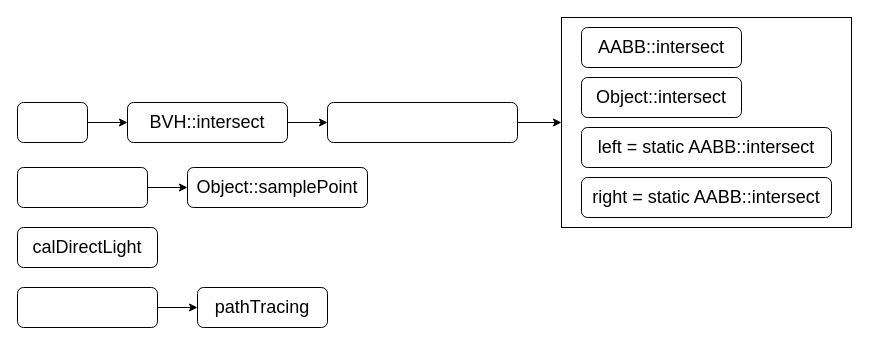
The diagram is 869 pixels wide and 345 high, and some of its shapes have lost their labels. The box of each missing label's shape, as (x1, y1, x2, y2) in pixels:
calIndirectLight: (16, 286, 158, 328)
sampleLight: (16, 166, 148, 208)
static BVH::intersect: (326, 102, 518, 142)
trace: (16, 102, 88, 142)
